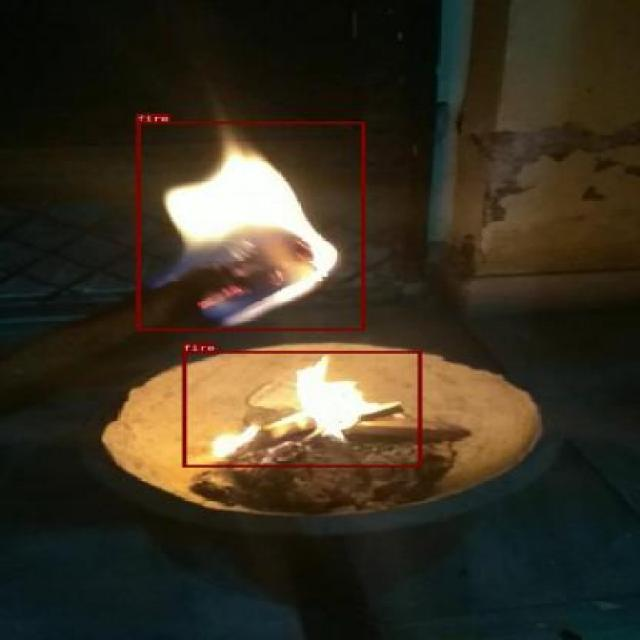Fire: (136, 122, 364, 330), (182, 350, 422, 467)
